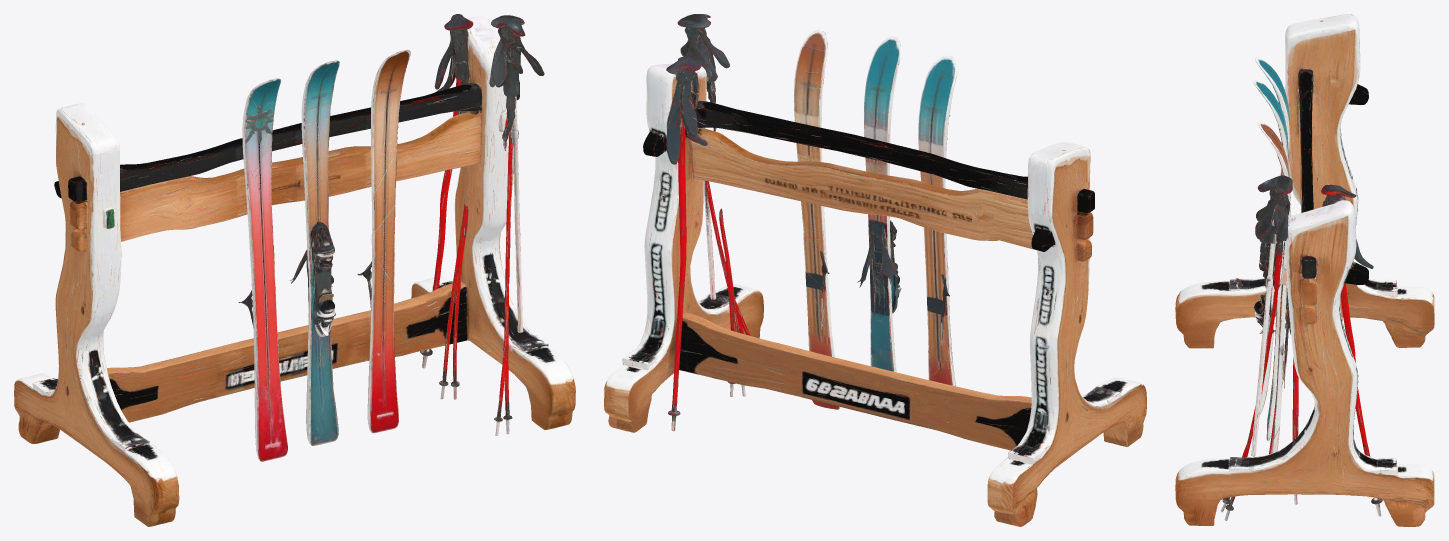
File: outdoor_ski_rack.glb
3 views of the same model, side by side, from view 1: azimuth 30°, elevation 25°; view 2: azimuth 150°, elevation 25°; view 3: azimuth 270°, elevation 25° (orthographic). The views are drawn at different scales.
Size of the model in its own units: 1.9 by 1.63 by 1.04.
Materials: 1 (1 with a texture image).
